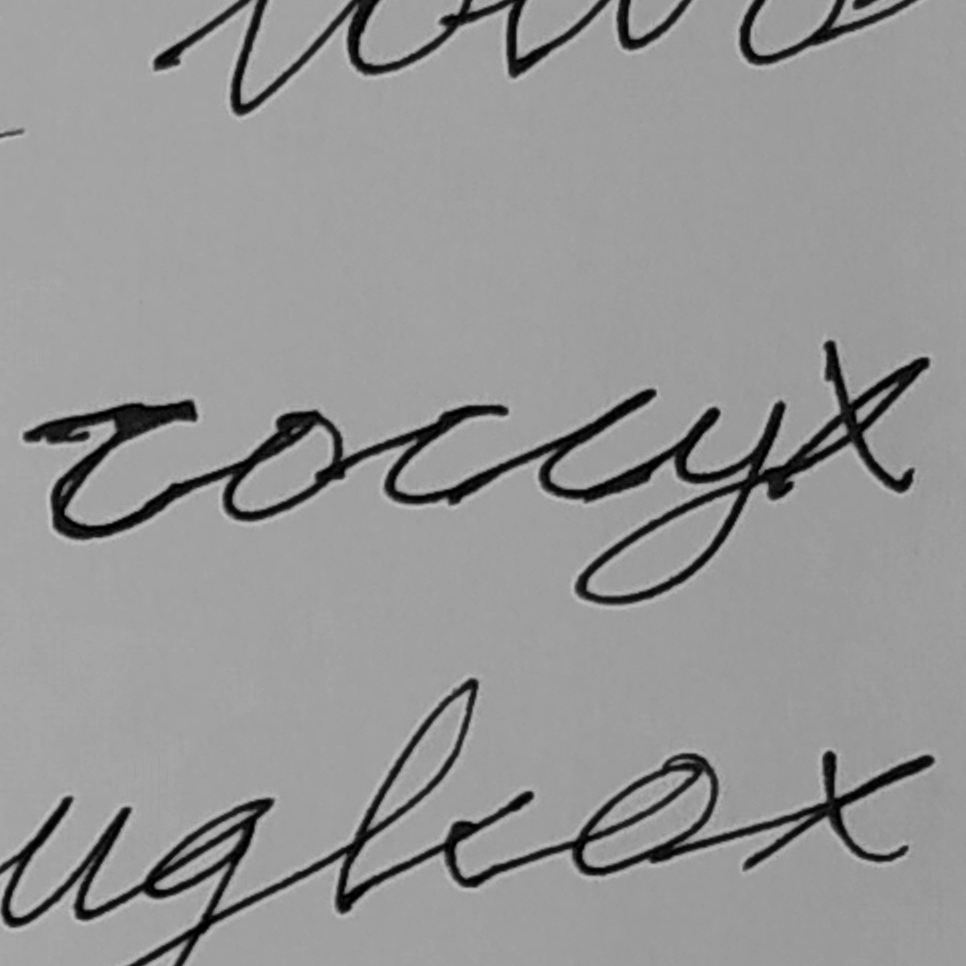c: (45, 397, 205, 543), (534, 384, 663, 502), (379, 400, 512, 511)
o: (218, 406, 349, 526)
x: (803, 334, 934, 500)
y: (566, 394, 791, 610)
